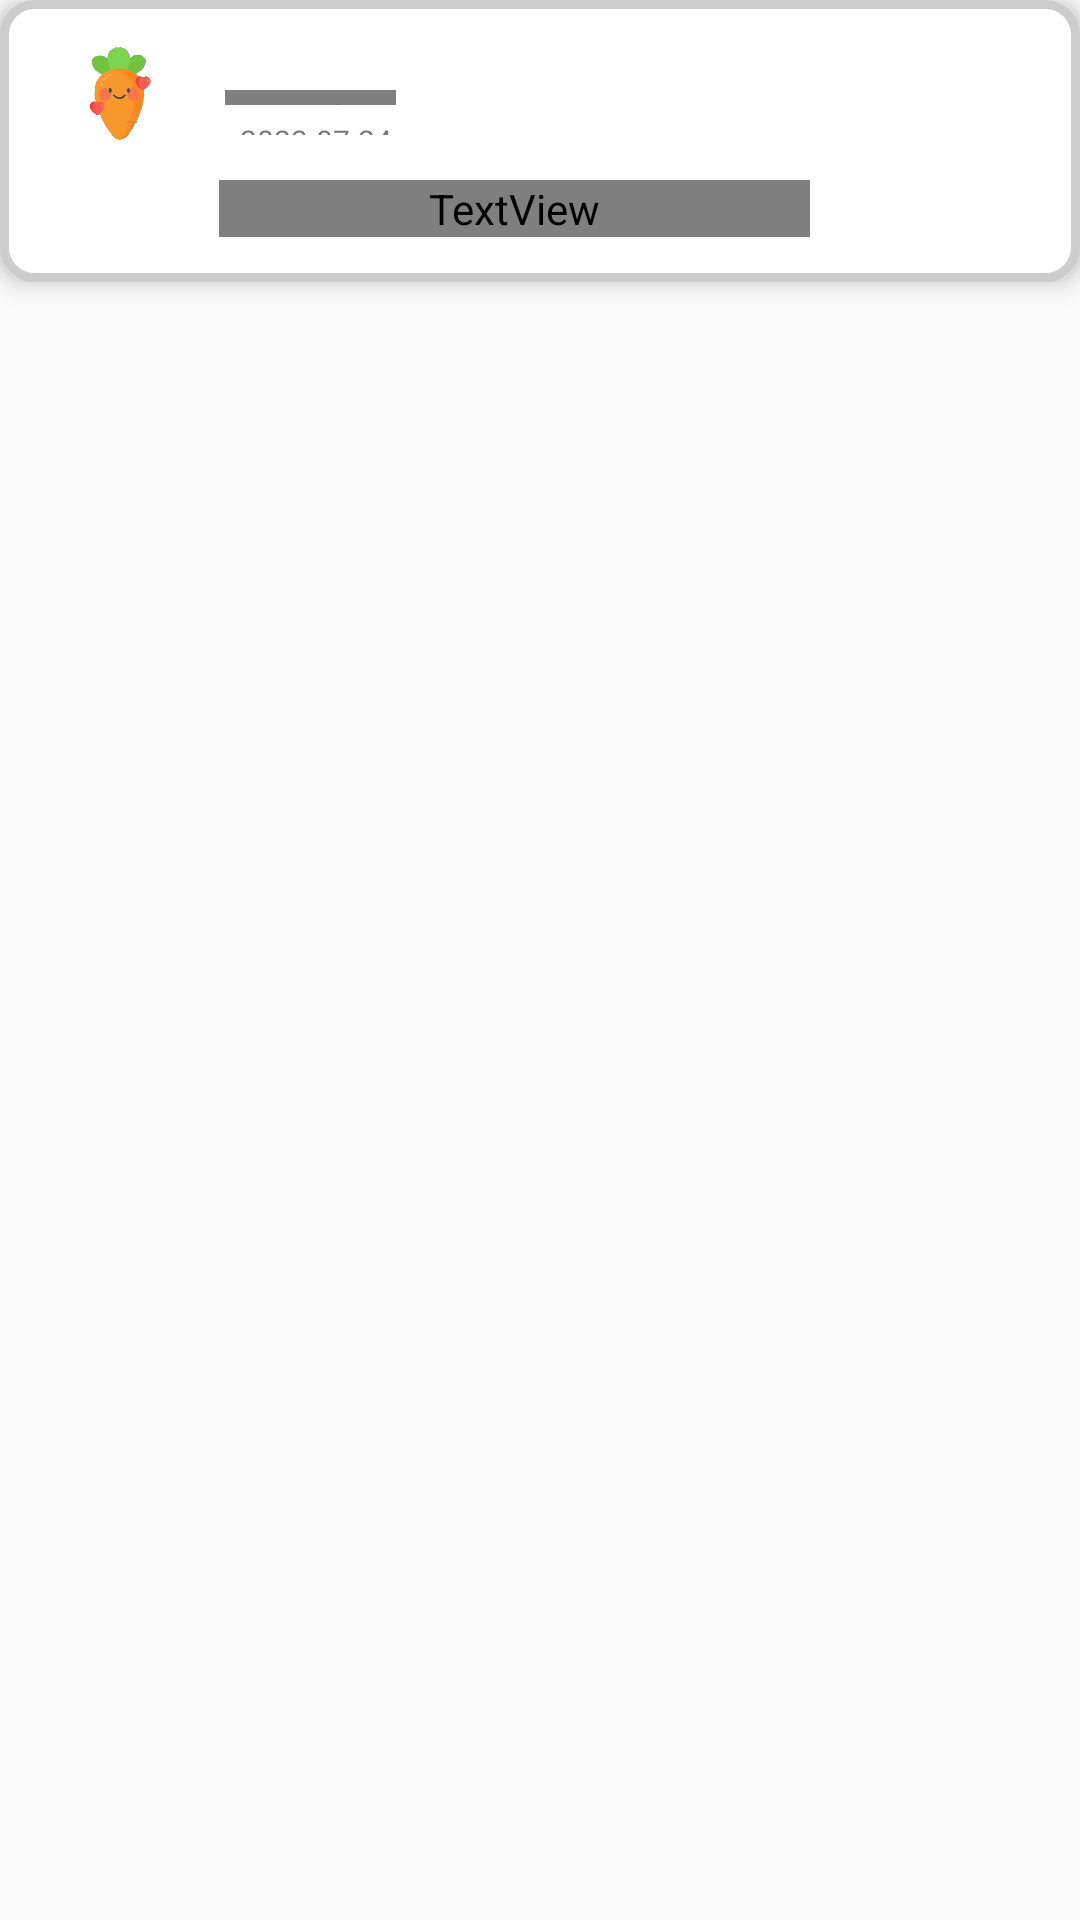

Icon bounding boxes for this 1080 × 1920 phone screenshot, format region(x1, y1, x2, y2):
happy: region(90, 47, 151, 140)
